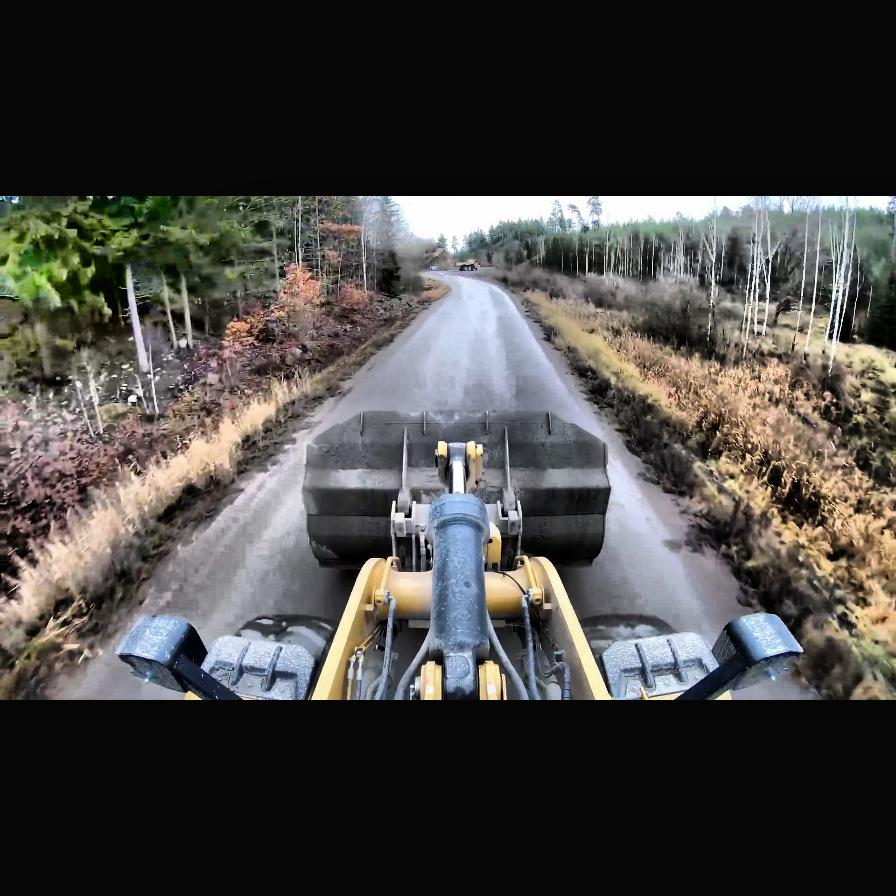anchor: (435, 439, 482, 494)
